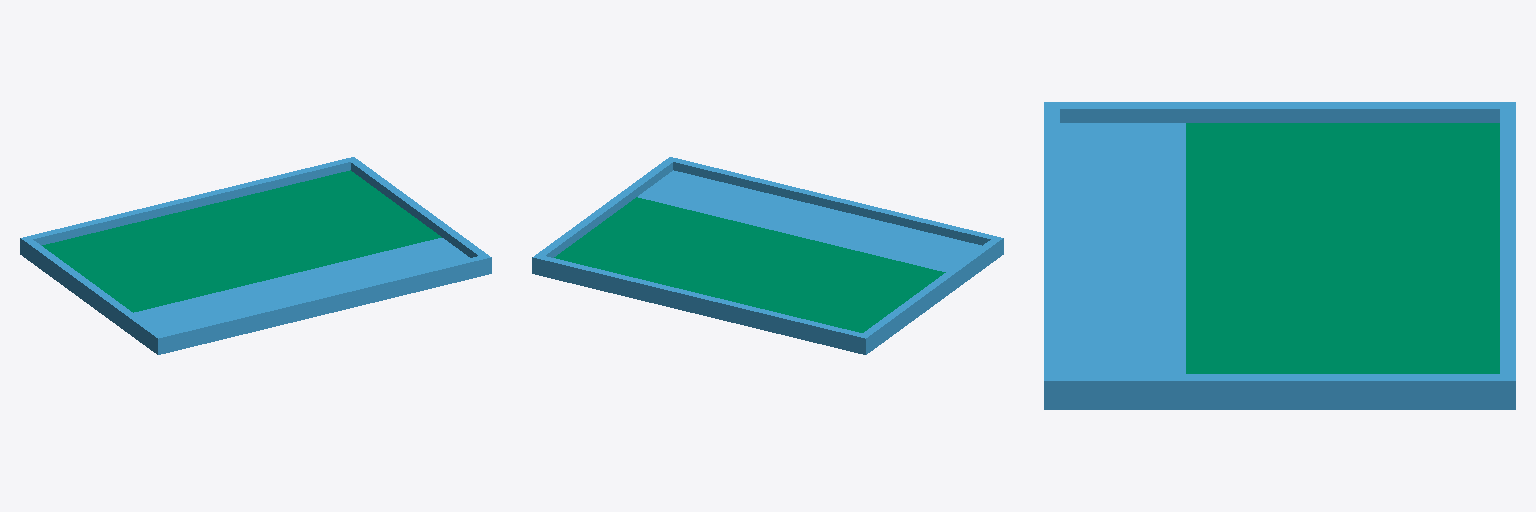
robot.urdf — right-pull-door:
<robot name="right-pull-door">
	<link name="base" />
	<link name="link_0">
		<visual name="out-frame">
			<origin xyz="0 0 0" />
			<geometry>
				<mesh filename="texture_dae/frame.dae" scale="0.8707544097280933 0.8707544097280933 0.8707544097280933" />
			</geometry>
		</visual>
		<collision>
			<origin xyz="0 0 0" />
			<geometry>
				<mesh filename="texture_dae/frame.dae" scale="0.8707544097280933 0.8707544097280933 0.8707544097280933" />
			</geometry>
		</collision>
	</link>
	<joint name="joint_0" type="fixed">
		<origin rpy="1.570796326794897 0 -1.570796326794897" xyz="0 0 0" />
		<child link="link_0" />
		<parent link="base" />
	</joint>
	<link name="link_1">
		<visual name="surf-board">
			<origin xyz="0.4443706796187469 -0.8865905585088676 0" />
			<geometry>
				<mesh filename="texture_dae/board.dae" scale="0.8707544097280933 0.8707544097280933 0.8707544097280933" />
			</geometry>
		</visual>
		<collision>
			<origin xyz="0.4443706796187469 -0.8865905585088676 0" />
			<geometry>
				<mesh filename="texture_dae/board.dae" scale="0.8707544097280933 0.8707544097280933 0.8707544097280933" />
			</geometry>
		</collision>
	</link>
	<joint name="joint_1" type="revolute">
		<origin xyz="-0.4443706796187469 0.8865905585088676 0" />
		<axis xyz="0 -1 0" />
		<child link="link_1" />
		<parent link="link_0" />
		<limit lower="0" upper="1.5079644737231006" />
	</joint>
	<link name="link_2">
		<visual name="handle">
			<origin xyz="0 0 0" />
			<geometry>
				<mesh filename="texture_dae/9960019-handle-right.dae" scale="1.165160027190858 1.165160027190858 1.165160027190858" />
			</geometry>
		</visual>
		<collision>
			<origin xyz="0 0 0" />
			<geometry>
				<mesh filename="texture_dae/9960019-handle-right.dae" scale="1.165160027190858 1.165160027190858 1.165160027190858" />
			</geometry>
		</collision>
	</link>
	<joint name="joint_2" type="revolute">
		<origin xyz="0 0 0" />
		<child link="link_2" />
		<parent link="link_3" />
		<axis xyz="0 0 1" />
		<limit lower="0" upper="0" />
	</joint>
	<link name="link_3">
		<visual name="lock">
			<origin xyz="0 0 0" />
			<geometry>
				<mesh filename="texture_dae/9960019-lock-right.dae" scale="1.165160027190858 1.165160027190858 1.165160027190858" />
			</geometry>
		</visual>
		<collision>
			<origin xyz="0 0 0" />
			<geometry>
				<mesh filename="texture_dae/9960019-lock-right.dae" scale="1.165160027190858 1.165160027190858 1.165160027190858" />
			</geometry>
		</collision>
	</link>
	<joint name="joint_3" type="fixed">
		<origin xyz="0.8046864695921352 -0.8893729391842705 0.005592935343147617" />
		<child link="link_3" />
		<parent link="link_1" />
	</joint>
</robot>

--- Facts derived from the render (not from the file) ---
3 views of the same robot in one strip: view 1: azimuth 30°, elevation 25°; view 2: azimuth 150°, elevation 25°; view 3: azimuth 270°, elevation 25° (orthographic).
Robot: right-pull-door — 5 links, 4 joints (2 revolute, 2 fixed); root link base; default pose: every joint at zero.
Visible links, largest first — view 1: link_1, link_0; view 2: link_0, link_1; view 3: link_1, link_0.
Link boxes in pixels (x1,y1,x2,y2): link_1: (42, 170, 441, 312); link_0: (20, 157, 491, 354); link_0: (532, 157, 1003, 354); link_1: (554, 197, 945, 332); link_1: (1186, 123, 1499, 373); link_0: (1044, 102, 1515, 409).
Size in the robot's own frame: 1.86 by 1.33 by 0.0885 metres.
Meshes: 4 distinct files referenced, 2 mesh visuals loaded (2 Collada DAE); not drawn: 2 (file found but could not be loaded).
